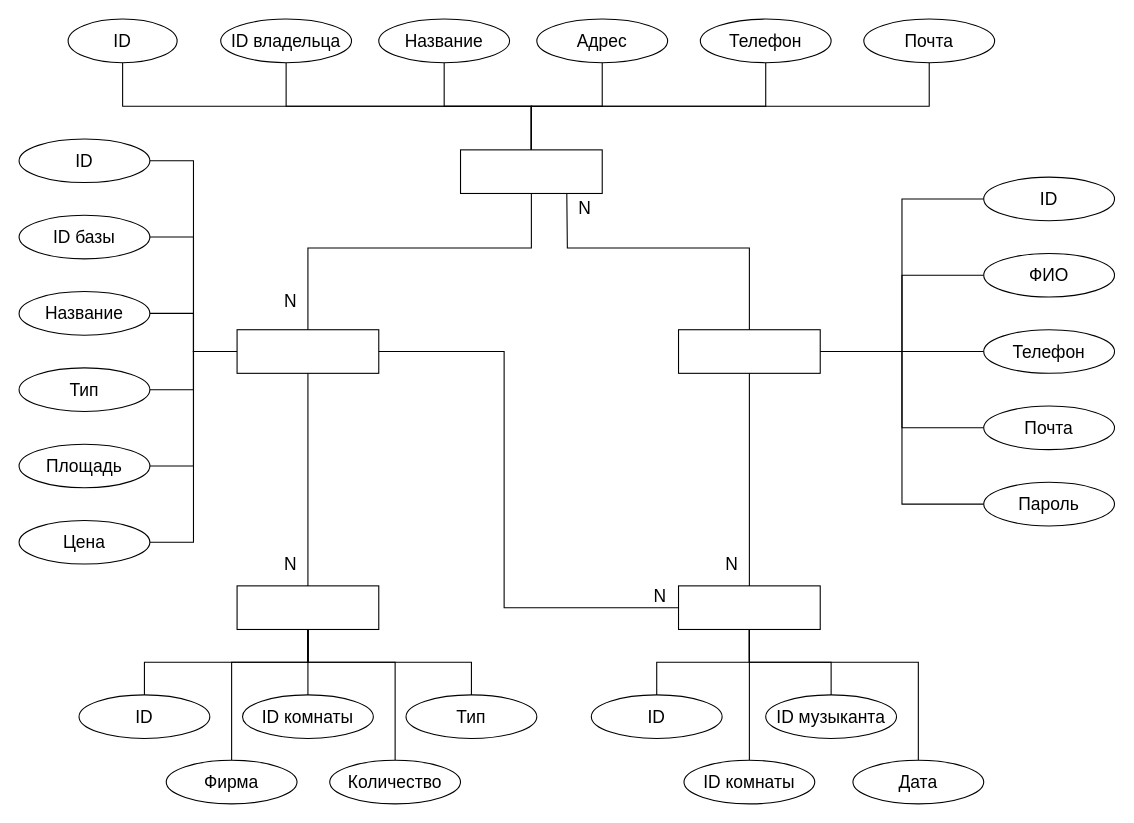
The diagram is 1134 pixels wide and 823 high, and some of its shapes have lost their labels. Here are the shapes that lost their labels. From the top down, the centre of each, then its label:
At point (530, 171): "Реп. база".
At point (307, 351): "Комната".
At point (748, 351): "Аккаунт".
At point (307, 607): "Оборудование".
At point (748, 607): "Репетиция".
